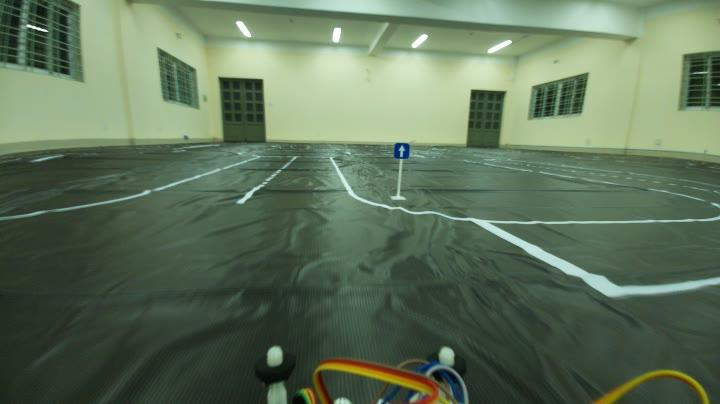onewayroad: (393, 134, 412, 167)
